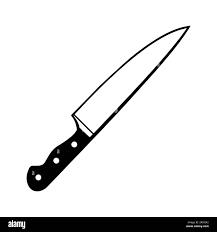Knife: (26, 24, 190, 191)
